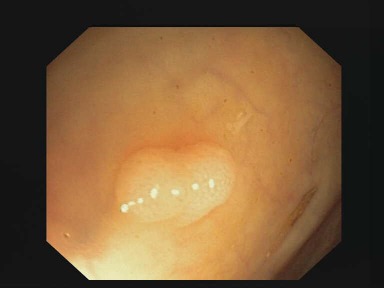polyp: (111, 143, 240, 228)
